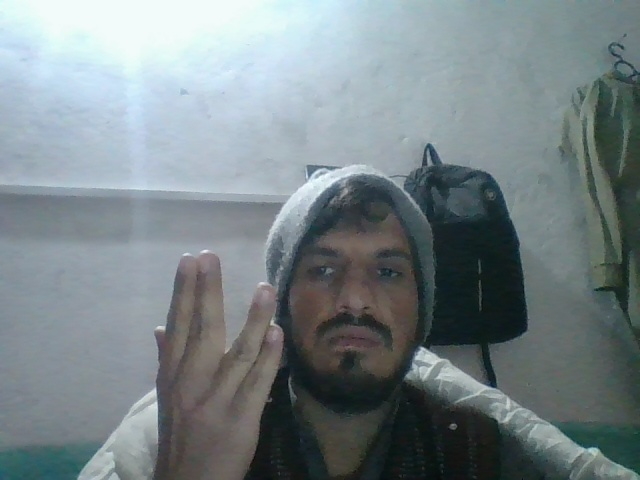LiveLong: (150, 244, 288, 470)
